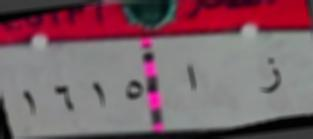1: (85, 74, 112, 116), (20, 89, 42, 120)
5: (121, 76, 145, 107)
6: (49, 77, 75, 117)
alif: (180, 62, 202, 96)
zay: (257, 54, 285, 97)
